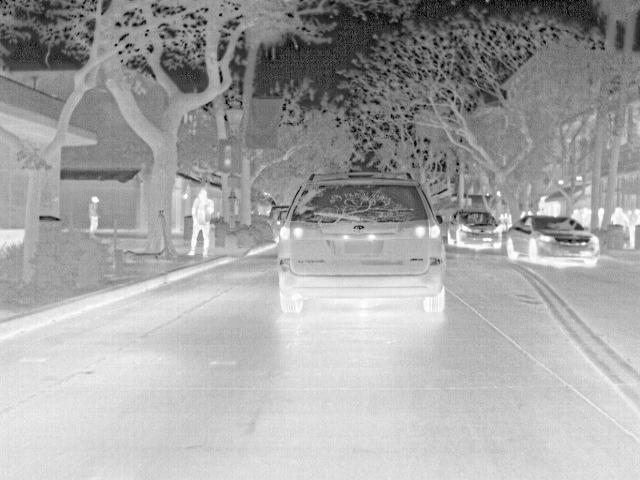car: (272, 171, 450, 310), (502, 214, 603, 268), (445, 206, 506, 250)
person: (186, 186, 216, 258), (86, 194, 100, 237), (626, 206, 640, 248), (609, 206, 630, 228)
